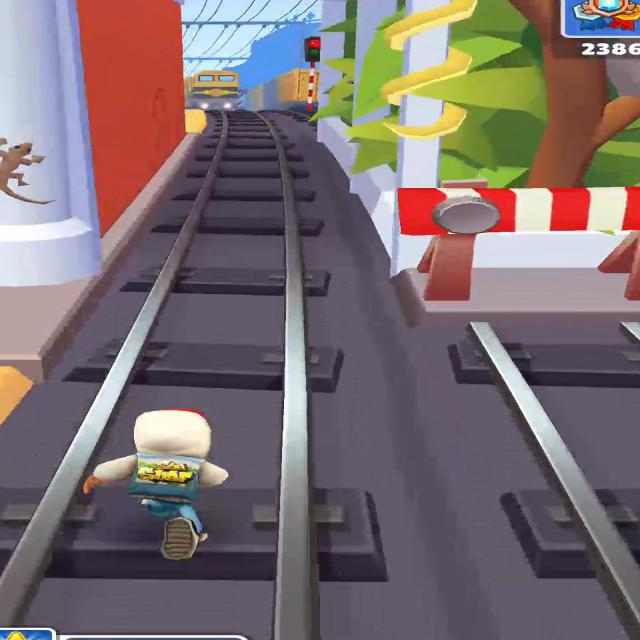block pillar: (312, 11, 640, 322)
train: (241, 69, 309, 112), (185, 70, 240, 110), (312, 70, 319, 109)
